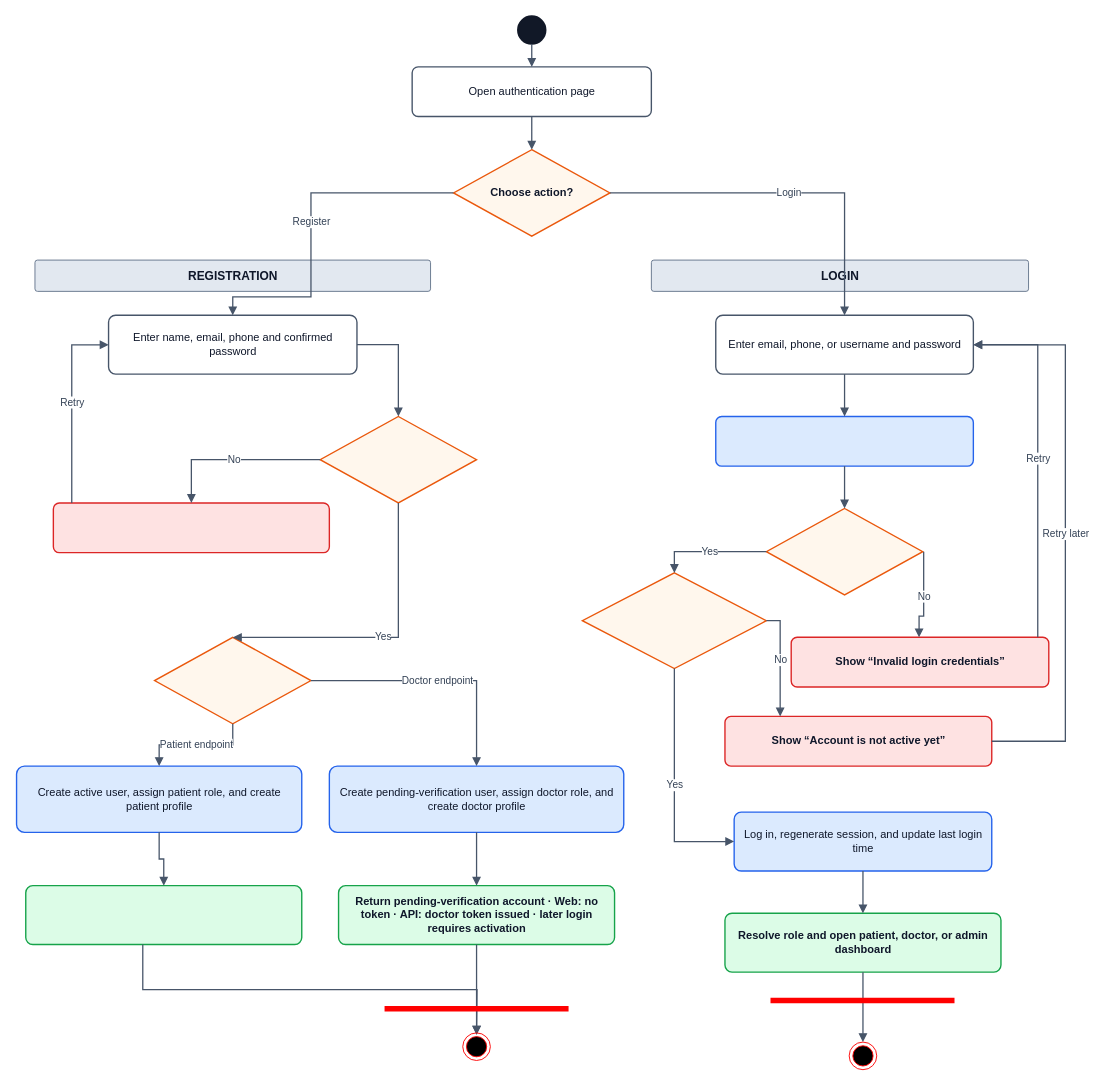
This 1105x1087 diagram has some shape labels left out. The shapes that lost their labels are listed below. From the top down, each one's centre as x and y in pixels, then its label:
(x=398, y=459): Input valid and unique?
(x=844, y=440): Look up user and verify password hash
(x=191, y=527): Show field validation errors
(x=844, y=551): Credentials valid?
(x=674, y=620): Admin/super-admin OR account active?
(x=232, y=680): Which registration endpoint received the request?
(x=163, y=915): Web: authenticate and regenerate session · API: issue patient access token
